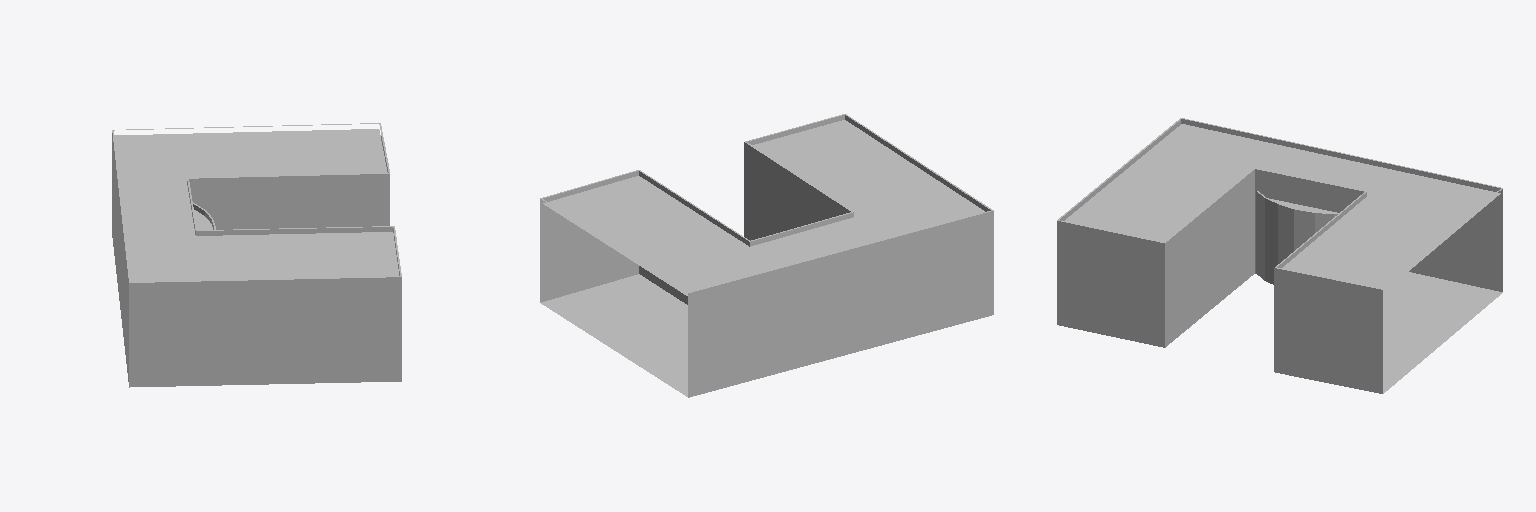
The model's file is lab_10.obj.
3 renders of one model, left to right at view 1: azimuth 30°, elevation 25°; view 2: azimuth 150°, elevation 25°; view 3: azimuth 270°, elevation 25°, orthographic.
Parts seen in each view (by area): view 1: object_1; view 2: object_1; view 3: object_1.
Boxes of the visible parts, x1,y1,x2,y2 form: object_1: [112, 123, 401, 387]; object_1: [540, 114, 993, 397]; object_1: [1057, 118, 1502, 393].
Size of the model in its own units: 223 by 63 by 244.